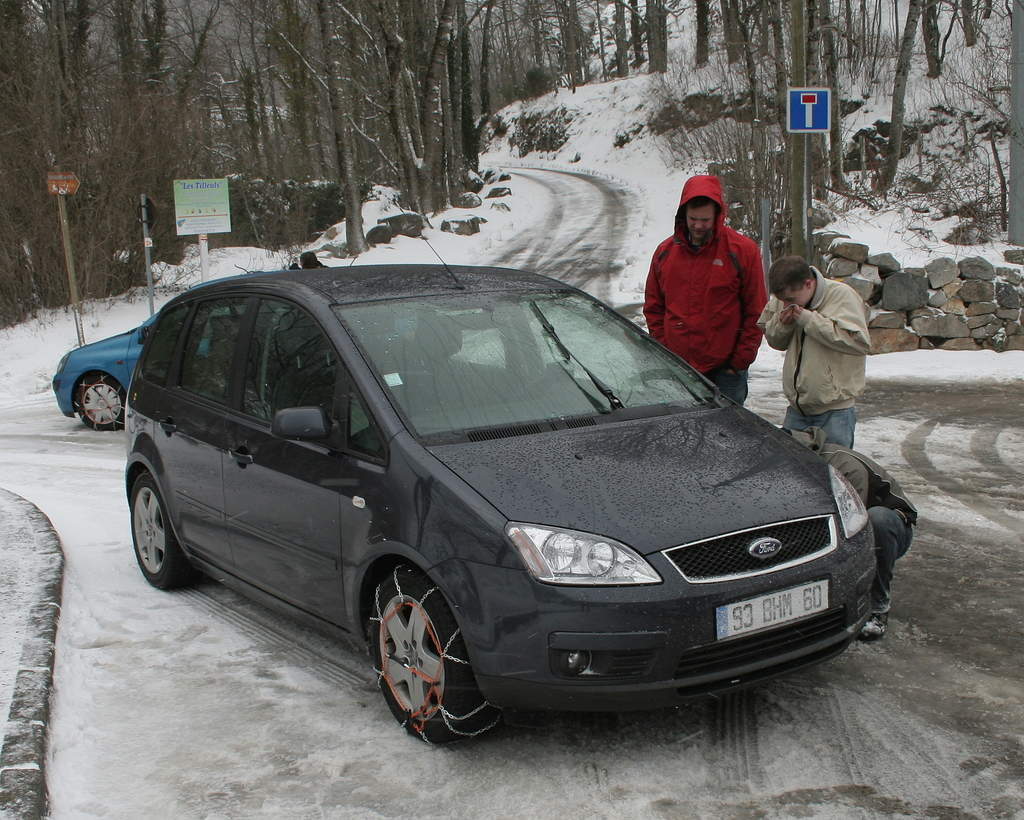Tree: (0, 0, 1010, 335)
